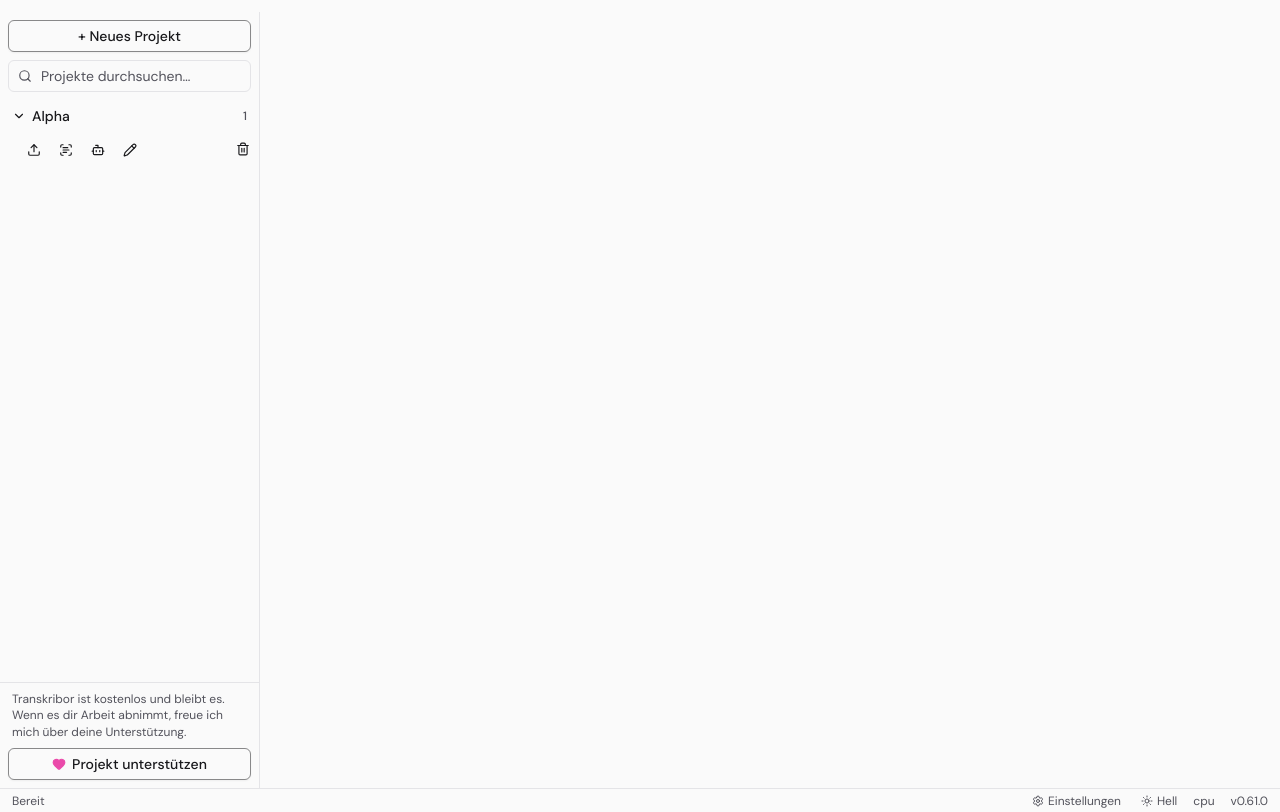
Scenario: AppShell › die Leisten-Knoepfe ADOPTIEREN ihren Job — sonst faellt die Ausgangsmeldung aus (#376)
Expected: the text "Alpha" is shown, [32,107,70,125]
Click the button named "Transkribieren".
click(66, 150)  # box [52,136,80,164]
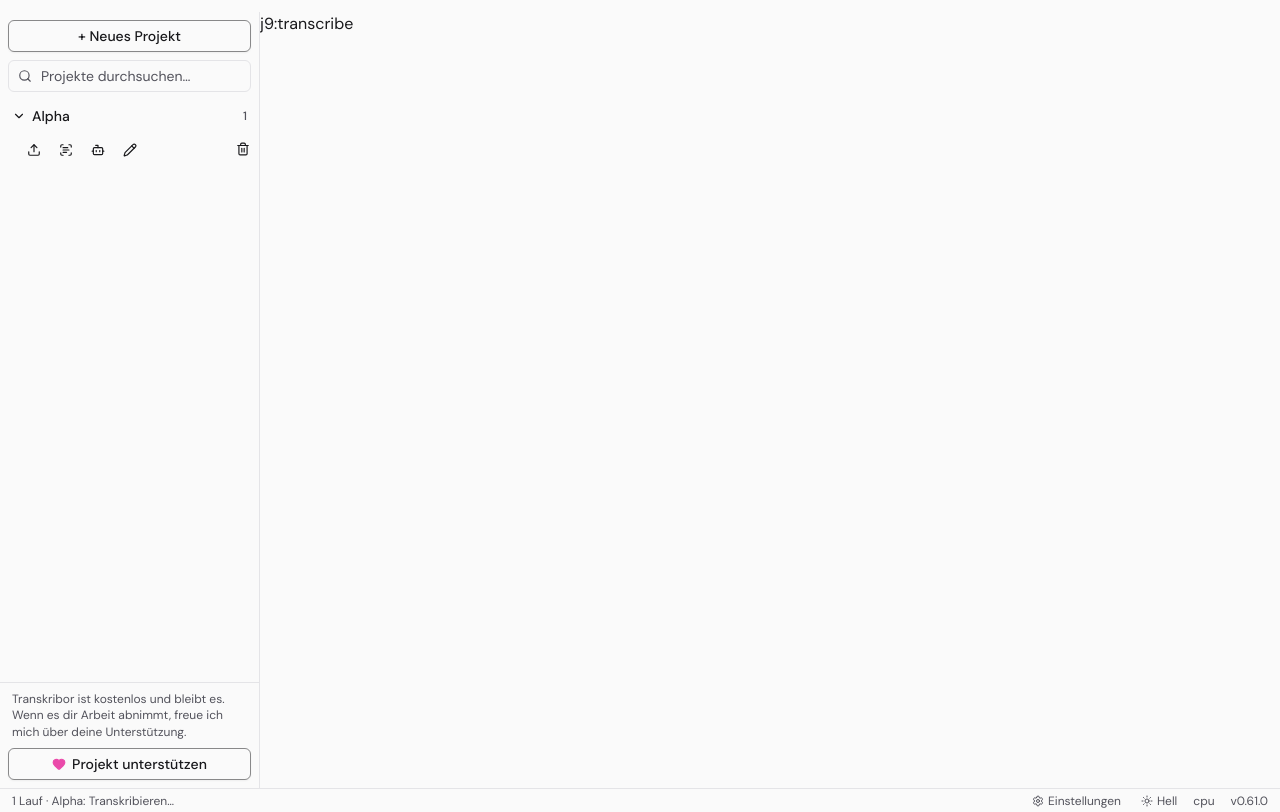
Expected: the text with test id "jobspiegel" reads "j9:transcribe", [260,13,353,34]
